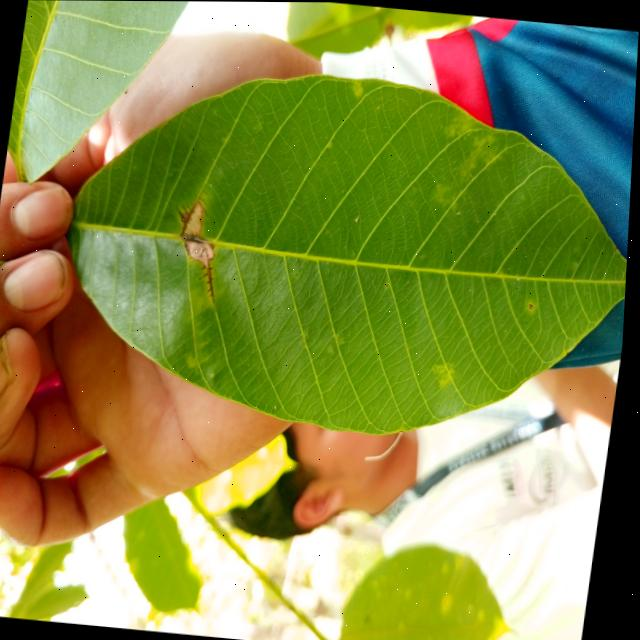Corynespora: (173, 179, 213, 238), (197, 247, 224, 303)
Leaf-Blight: (185, 238, 216, 266), (186, 201, 207, 236)
